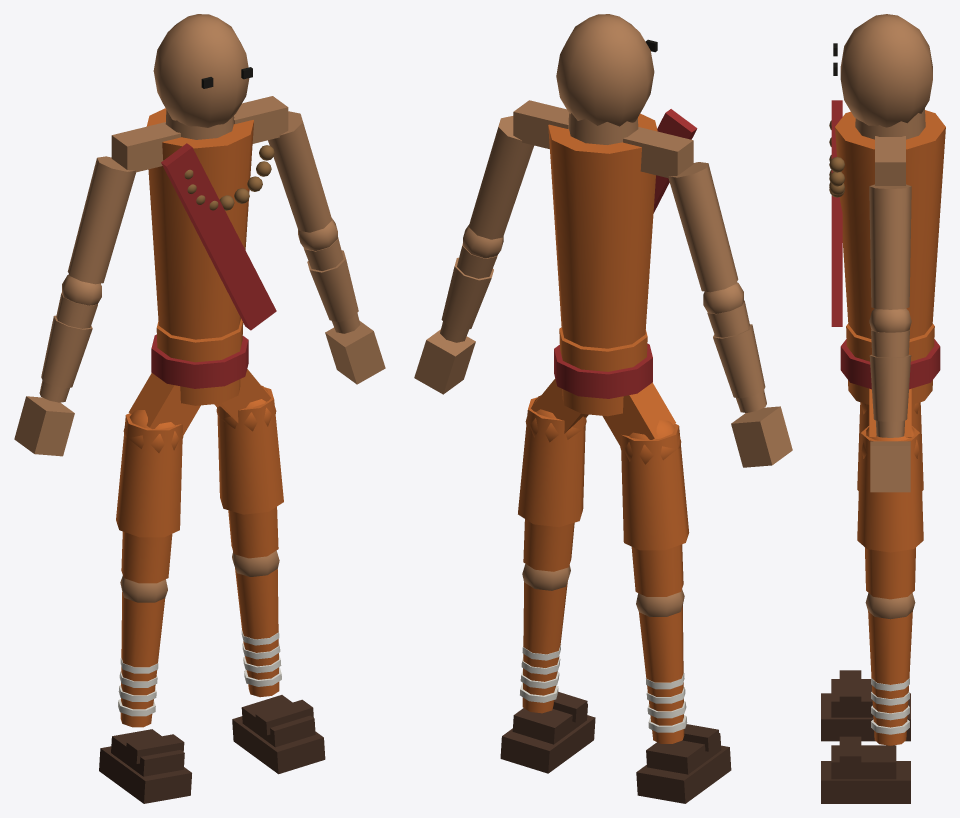
Rendered from shaolin-body.glb.
3 views of the same model, side by side, from view 1: azimuth 30°, elevation 25°; view 2: azimuth 150°, elevation 25°; view 3: azimuth 270°, elevation 25° (orthographic).
Visible parts, largest first — view 1: FittedTorso, RobeLeg (×2), Face, RobeFold, UpperArm-1, UpperArm1, ShoulderLink (×2), Shin-1, Shin1, Waist, WaistSash, Hand-1 (+19 smaller); view 2: FittedTorso, RobeLeg (×2), Face, UpperArm-1, UpperArm1, ShoulderLink (×2), Shin-1, Shin1, Waist, WaistSash, Hand-1, Sandal-1 (+18 smaller); view 3: FittedTorso, Face, RobeLeg (×2), UpperArm1, Shin1, Sandal1, Bracer1, Thigh1, Hand1, RobeFold, Waist, WaistSash (+13 smaller).
Part boxes in pixels (x1,y1,x2,y2): FittedTorso: (146, 108, 253, 339); RobeLeg (×2): (116, 387, 283, 537); Face: (153, 14, 249, 127); RobeFold: (161, 143, 276, 330); UpperArm-1: (67, 156, 135, 284); UpperArm1: (268, 111, 331, 232); ShoulderLink (×2): (111, 96, 288, 172); Shin-1: (120, 592, 165, 727); Shin1: (235, 568, 279, 697); Waist: (156, 318, 243, 405); WaistSash: (151, 334, 248, 388); Hand-1: (14, 396, 74, 456); FittedTorso: (548, 113, 657, 348); RobeLeg (×2): (518, 397, 689, 550); Face: (556, 14, 654, 126); UpperArm-1: (668, 162, 738, 292); UpperArm1: (468, 116, 534, 239); ShoulderLink (×2): (513, 100, 693, 178); Shin-1: (639, 605, 684, 743); Shin1: (522, 581, 567, 713); Waist: (559, 327, 647, 416); WaistSash: (554, 343, 652, 398); Hand-1: (731, 406, 792, 467); Sandal-1: (636, 745, 731, 803); FittedTorso: (835, 110, 945, 338); Face: (840, 14, 932, 127); RobeLeg (×2): (857, 402, 923, 552); UpperArm1: (869, 184, 911, 309); Shin1: (868, 611, 912, 745); Sandal1: (821, 761, 910, 803); Bracer1: (869, 354, 911, 421); Thigh1: (865, 547, 915, 599); Hand1: (870, 441, 910, 492); RobeFold: (831, 100, 842, 326); Waist: (846, 323, 934, 404); WaistSash: (840, 339, 940, 389).
Bounding box in the file's own units: 0.9158 × 1.85 × 0.2815.
